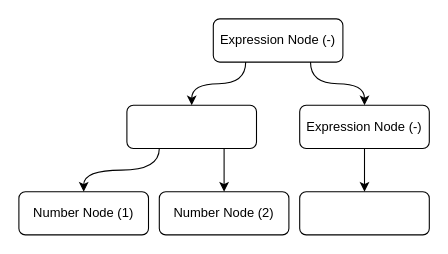
Image size: 448x254. Some labels were removed from this diagram. The shapes that lost their labels are listed below. From the top down, each one's centre as x and y in pixels, then its label:
At point (191, 126): "Expression Node (+)".
At point (364, 213): "Number Node (3)".
